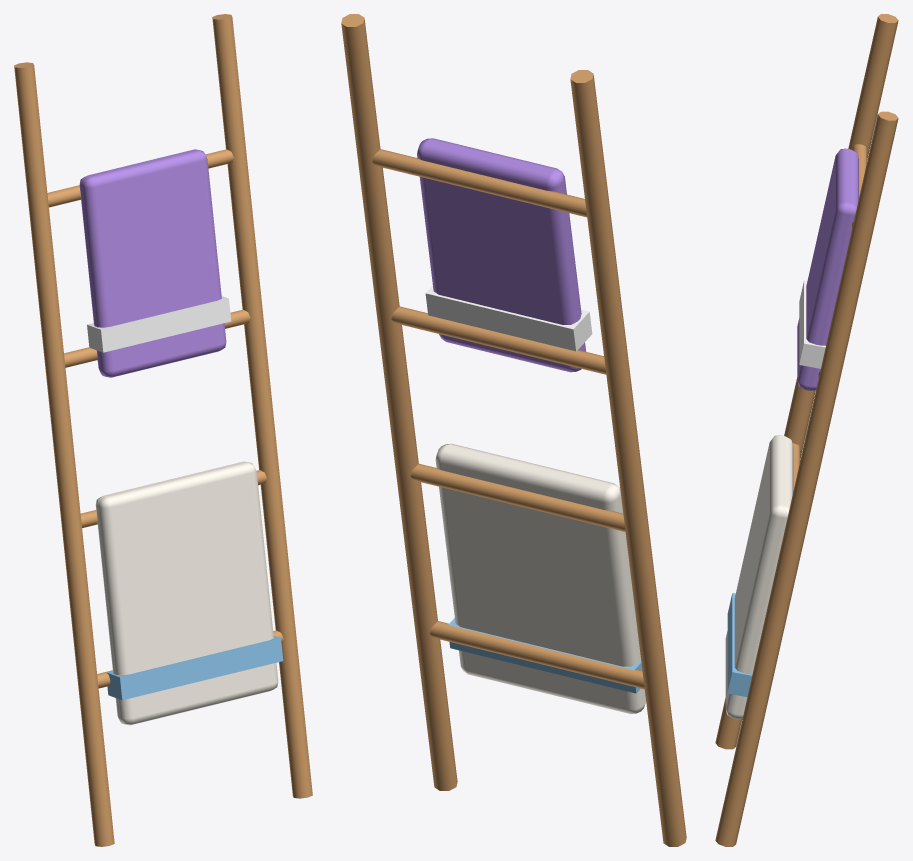
Rendered from towel-ladder.glb.
3 renders of one model, left to right at view 1: azimuth 30°, elevation 25°; view 2: azimuth 150°, elevation 25°; view 3: azimuth 270°, elevation 25°, orthographic. The views are drawn at different scales.
Bounding box in the file's own units: 0.524 × 1.67 × 0.3809.
